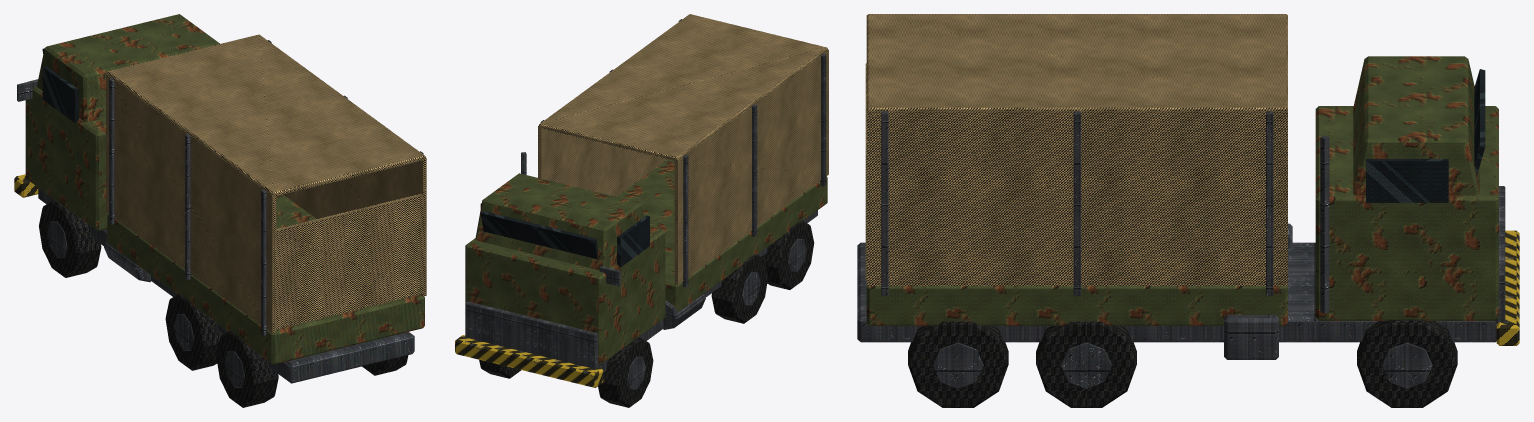
The model's file is prop_truck.glb.
3 renders of one model, left to right at view 1: azimuth 30°, elevation 25°; view 2: azimuth 150°, elevation 25°; view 3: azimuth 270°, elevation 25°, orthographic. The views are drawn at different scales.
Visible parts, largest first — view 1: prop_truck_mesh; view 2: prop_truck_mesh; view 3: prop_truck_mesh.
Boxes of the visible parts, left/top/right/bottom form: prop_truck_mesh: left=14, top=14, right=426, bottom=407; prop_truck_mesh: left=455, top=14, right=828, bottom=407; prop_truck_mesh: left=857, top=14, right=1519, bottom=407.
Bounding box in the file's own units: 2.77 × 3.61 × 7.22.
6 materials, 6 textured.
